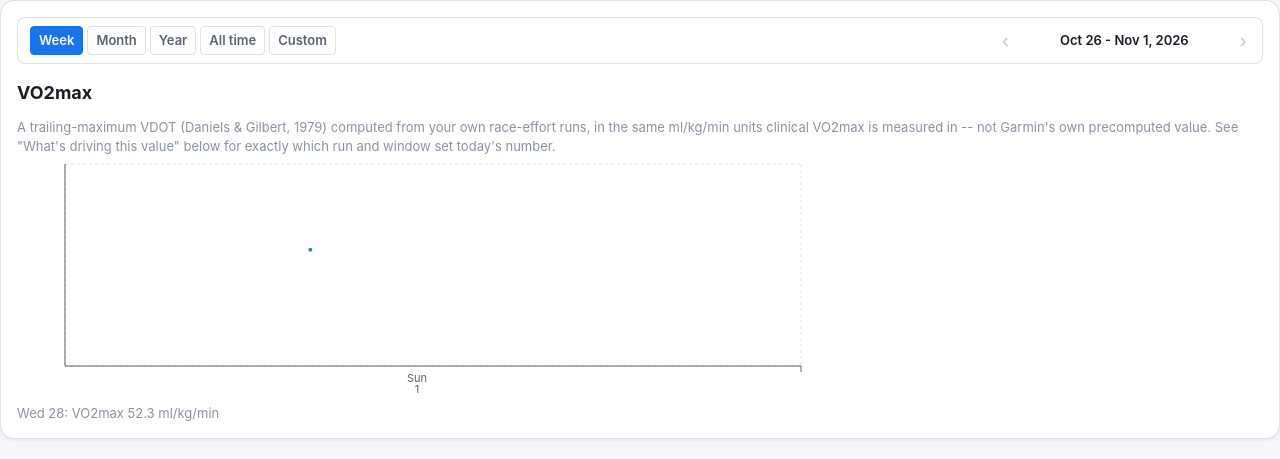
Scenario: Vo2maxChart › switching to Custom reveals date pickers instead of prev/next
The width and height of the screenshot is (1280, 459).
Click the button "Custom".
click(303, 40)  # box [269,26,336,55]
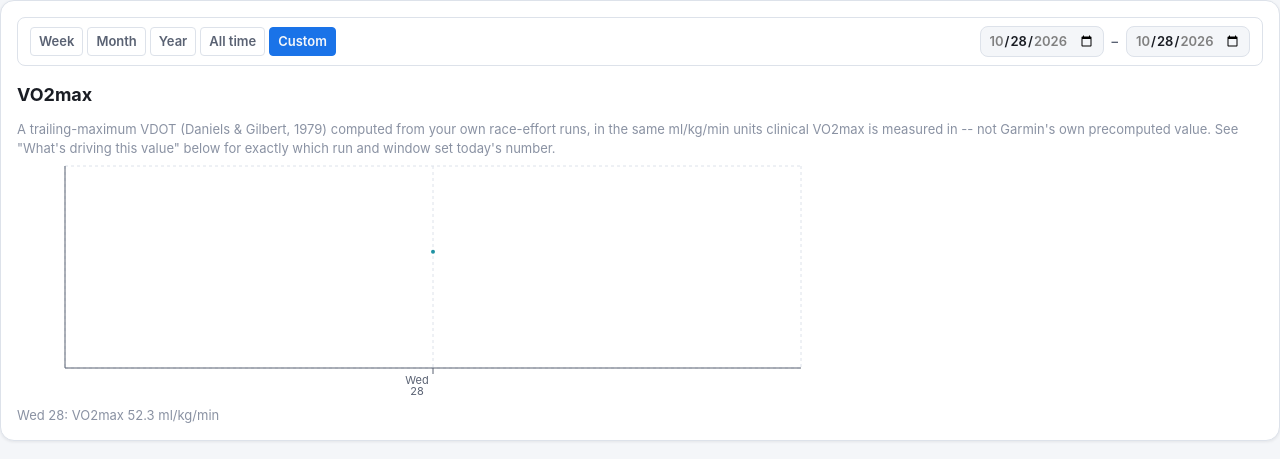
Result: the date field named "Custom range start" is shown at [980,26,1104,57]
Result: the date field named "Custom range end" is shown at [1126,26,1250,57]
Result: the button "Earlier" is gone
